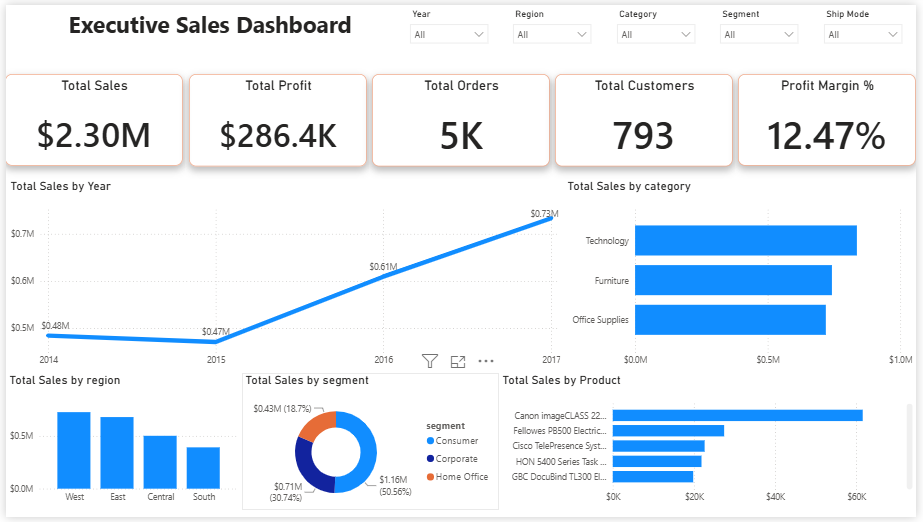

What the dashboard file says about the page in this screenshot:
{"tool":"powerbi","page":{"name":"Page 1","canvas":[1280,720],"ordinal":0},"visuals":[{"type":"cardVisual","title":"Total Sales","fields":{"Data":["public orders.Total Sales"]},"box":[-0.7,97.7,250,129],"z":0},{"type":"cardVisual","title":"Total Profit","fields":{"Data":["public orders.Total Profit"]},"box":[256.8,97.7,250,130],"z":1000},{"type":"cardVisual","title":"Total Orders","fields":{"Data":["public orders.Total Orders"]},"box":[514.3,97.7,250,130],"z":2000},{"type":"cardVisual","title":"Total Customers","fields":{"Data":["public orders.Total Customers"]},"box":[771.8,97.7,250,130],"z":3000},{"type":"cardVisual","title":"Profit Margin %","fields":{"Data":["public orders.Profit Margin %"]},"box":[1029.3,97.7,250,129.4],"z":4000},{"type":"lineChart","fields":{"Category":["public orders.order_date.Variation.Date Hierarchy.Year","public orders.order_date.Variation.Date Hierarchy.Quarter","public orders.order_date.Variation.Date Hierarchy.Month","public orders.order_date.Variation.Date Hierarchy.Day"],"Y":["public orders.Total Sales"]},"box":[1.4,244.7,783.5,272.9],"z":5000},{"type":"clusteredBarChart","fields":{"Category":["public orders.category"],"Y":["public orders.Total Sales"]},"box":[784.9,244.7,495.1,272.9],"z":6000},{"type":"columnChart","fields":{"Category":["public orders.region"],"Y":["public orders.Total Sales"]},"box":[0,517.6,332,192.7],"z":7000},{"type":"donutChart","fields":{"Category":["public orders.segment"],"Y":["public orders.Total Sales"]},"box":[332,517.6,361.5,192.7],"z":8000},{"type":"barChart","title":"Total Sales by Product","fields":{"Category":["public orders.product_name"],"Y":["public orders.Total Sales"]},"box":[693.5,517.6,586.5,192.7],"z":9000},{"type":"textbox","box":[0,0,574.3,64.3],"z":10000},{"type":"slicer","fields":{"Values":["public orders.order_date.Variation.Date Hierarchy.Year"]},"box":[558.4,0,130,60.5],"z":11000},{"type":"slicer","fields":{"Values":["public orders.region"]},"box":[703.9,0,130,60.5],"z":12000},{"type":"slicer","fields":{"Values":["public orders.category"]},"box":[849.3,0,130,60.5],"z":13000},{"type":"slicer","fields":{"Values":["public orders.segment"]},"box":[994.8,0,130,60.5],"z":14000},{"type":"slicer","fields":{"Values":["public orders.ship_mode"]},"box":[1140.2,0,130,60.5],"z":15000}]}

Visuals, with their boxes in screenshot pixels (x1, y1, x2, y2), scaled from the page's 1280x720 canvas onto the 923x522 screenshot:
"Total Sales" cardVisual: 0, 71, 180, 164
"Total Profit" cardVisual: 185, 71, 365, 165
"Total Orders" cardVisual: 371, 71, 551, 165
"Total Customers" cardVisual: 557, 71, 737, 165
"Profit Margin %" cardVisual: 742, 71, 922, 165
lineChart - public orders.order_date.Variation.Date Hierarchy.Year x public orders.order_date.Variation.Date Hierarchy.Quarter: 1, 177, 566, 375
clusteredBarChart - public orders.category x public orders.Total Sales: 566, 177, 922, 375
columnChart - public orders.region x public orders.Total Sales: 0, 375, 239, 515
donutChart - public orders.segment x public orders.Total Sales: 239, 375, 500, 515
"Total Sales by Product" barChart: 500, 375, 922, 515
textbox: 0, 0, 414, 47
slicer - public orders.order_date.Variation.Date Hierarchy.Year: 403, 0, 496, 44
slicer - public orders.region: 508, 0, 601, 44
slicer - public orders.category: 612, 0, 706, 44
slicer - public orders.segment: 717, 0, 811, 44
slicer - public orders.ship_mode: 822, 0, 916, 44
